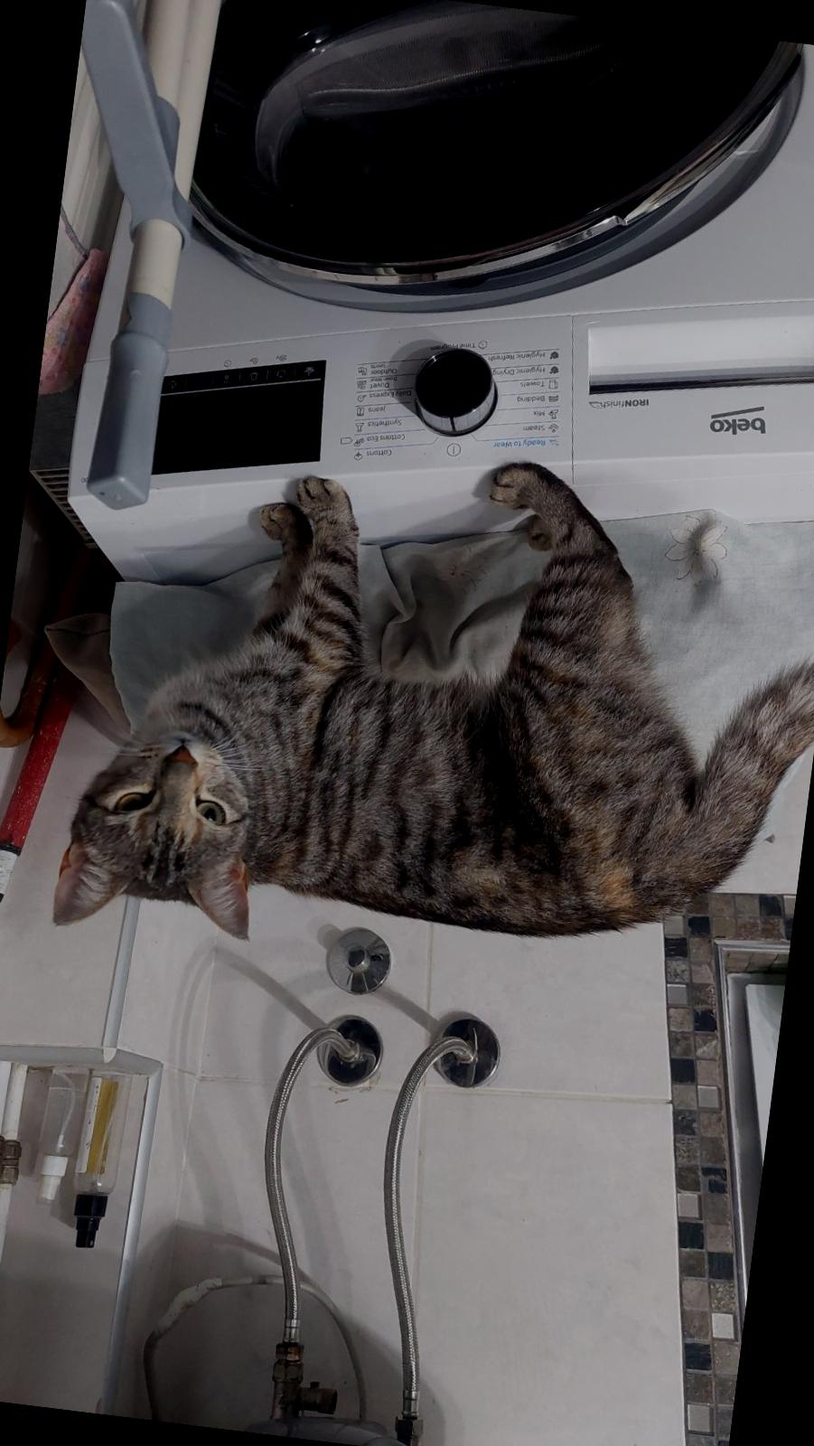macka: (42, 409, 814, 1019)
